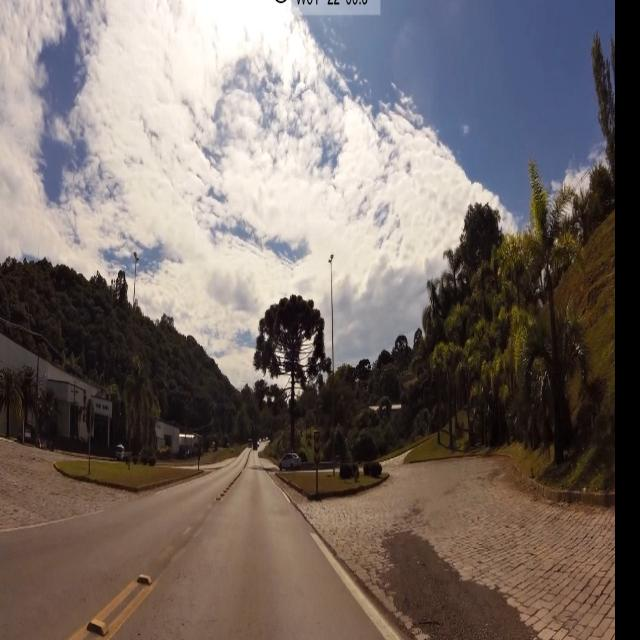MP: (314, 429, 320, 471)
